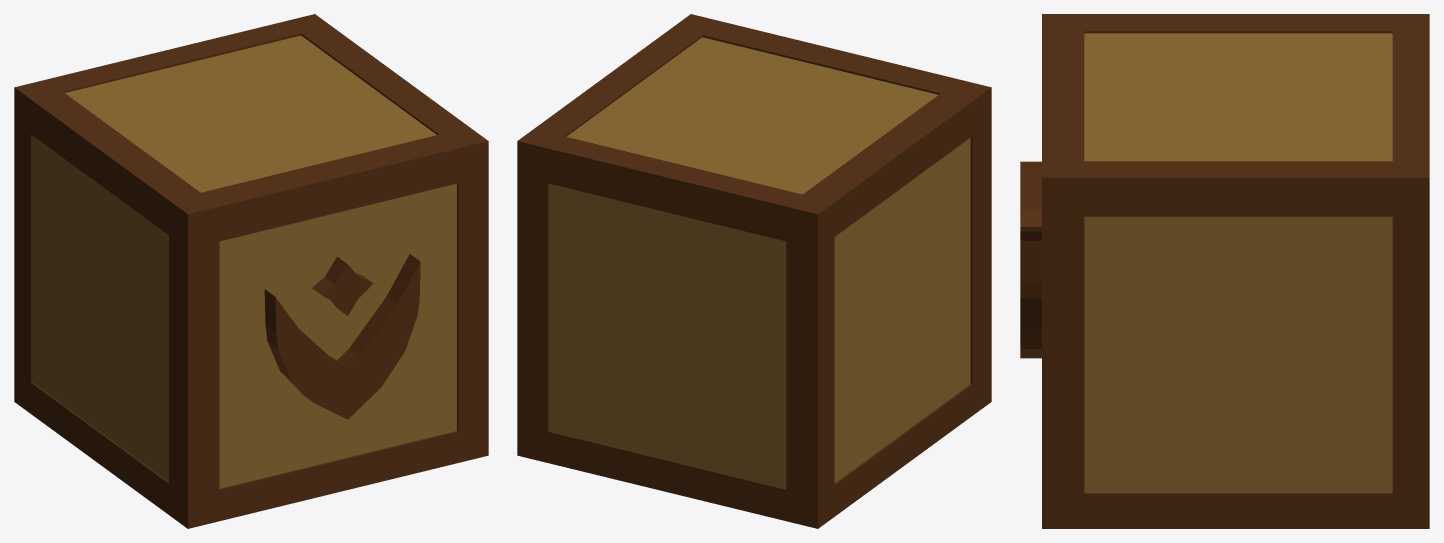
The model's file is cube flat.FBX.
The picture shows the model from 3 angles, left to right: view 1: azimuth 30°, elevation 25°; view 2: azimuth 150°, elevation 25°; view 3: azimuth 270°, elevation 25°; orthographic projection. The views are drawn at different scales.
Parts seen in each view (by area): view 1: Box001, Object002; view 2: Box001; view 3: Box001, Object002.
Part boxes in pixels (bbox=[...]): Box001: bbox=[14, 14, 488, 528]; Object002: bbox=[264, 254, 420, 419]; Box001: bbox=[517, 14, 991, 528]; Box001: bbox=[1042, 14, 1429, 528]; Object002: bbox=[1020, 161, 1041, 358].
Size of the model in its own units: 79.72 by 79.72 by 84.21.
